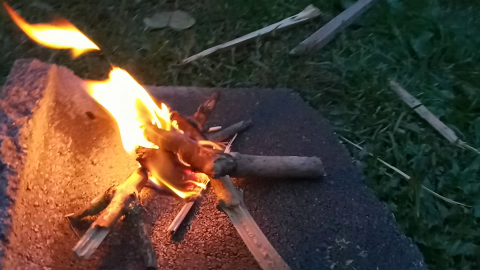fire: (7, 6, 230, 192)
